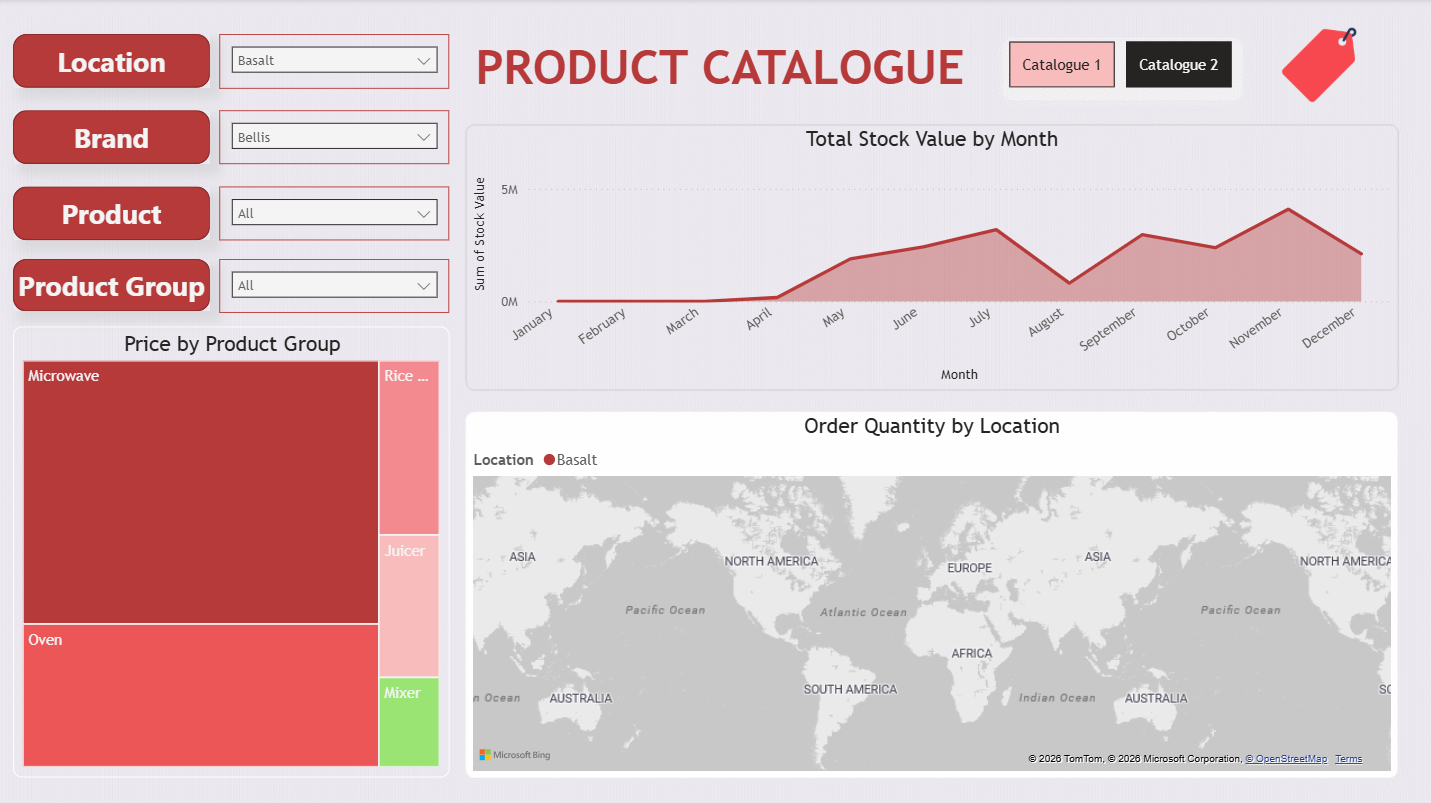

This screenshot's page, from the dashboard's own definition file:
{"tool":"powerbi","page":{"name":"Catalogue 2","canvas":[1280,720],"ordinal":1},"visuals":[{"type":"pageNavigator","box":[900.6,38,198.8,41.7],"z":0},{"type":"areaChart","title":"Total Stock Value by Month","fields":{"Category":["_stock.Order Date.Variation.Date Hierarchy.Month","_stock.Order Date.Variation.Date Hierarchy.Day"],"Y":["Sum(_stock.Stock Value)"]},"box":[418.6,114,826.7,232.6],"z":1000},{"type":"filledMap","title":"Order Quantity by Location","fields":{"Series":["_stock.Location"]},"box":[418.6,368.6,826.7,324.4],"z":2000},{"type":"treemap","title":"Price by Product Group","fields":{"Group":["_product.Product Group"],"Values":["Sum(_product.Price)"]},"box":[13.5,292,389,401.2],"z":3000},{"type":"shape","box":[13.5,30.7,175.5,47.9],"z":4000},{"type":"shape","box":[13.5,99.4,175.5,47.9],"z":5000},{"type":"shape","box":[13.5,231.9,175.5,46.6],"z":6000},{"type":"shape","box":[13.5,166.9,175.5,47.9],"z":7000},{"type":"slicer","fields":{"Values":["_stock.Location"]},"box":[197.5,30.7,204.9,49.1],"z":8000},{"type":"slicer","fields":{"Values":["_product.Brand"]},"box":[197.5,99.4,204.9,47.9],"z":9000},{"type":"slicer","fields":{"Values":["_product.Product"]},"box":[197.5,166.9,204.9,47.9],"z":10000},{"type":"slicer","fields":{"Values":["_product.Product Group"]},"box":[197.5,231.9,204.9,47.9],"z":11000},{"type":"textbox","box":[418.4,30.7,461.4,60.1],"z":12000},{"type":"image","box":[1117.8,25.8,116.6,67.5],"z":13000}]}

Visuals, with their boxes in screenshot pixels (x1, y1, x2, y2), scaled from the page's 1280x720 canvas onto the 1431x803 screenshot:
pageNavigator: {"x1": 1007, "y1": 42, "x2": 1229, "y2": 89}
"Total Stock Value by Month" areaChart: {"x1": 468, "y1": 127, "x2": 1392, "y2": 387}
"Order Quantity by Location" filledMap: {"x1": 468, "y1": 411, "x2": 1392, "y2": 773}
"Price by Product Group" treemap: {"x1": 15, "y1": 326, "x2": 450, "y2": 773}
shape: {"x1": 15, "y1": 34, "x2": 211, "y2": 88}
shape: {"x1": 15, "y1": 111, "x2": 211, "y2": 164}
shape: {"x1": 15, "y1": 259, "x2": 211, "y2": 311}
shape: {"x1": 15, "y1": 186, "x2": 211, "y2": 240}
slicer - _stock.Location: {"x1": 221, "y1": 34, "x2": 450, "y2": 89}
slicer - _product.Brand: {"x1": 221, "y1": 111, "x2": 450, "y2": 164}
slicer - _product.Product: {"x1": 221, "y1": 186, "x2": 450, "y2": 240}
slicer - _product.Product Group: {"x1": 221, "y1": 259, "x2": 450, "y2": 312}
textbox: {"x1": 468, "y1": 34, "x2": 984, "y2": 101}
image: {"x1": 1250, "y1": 29, "x2": 1380, "y2": 104}
